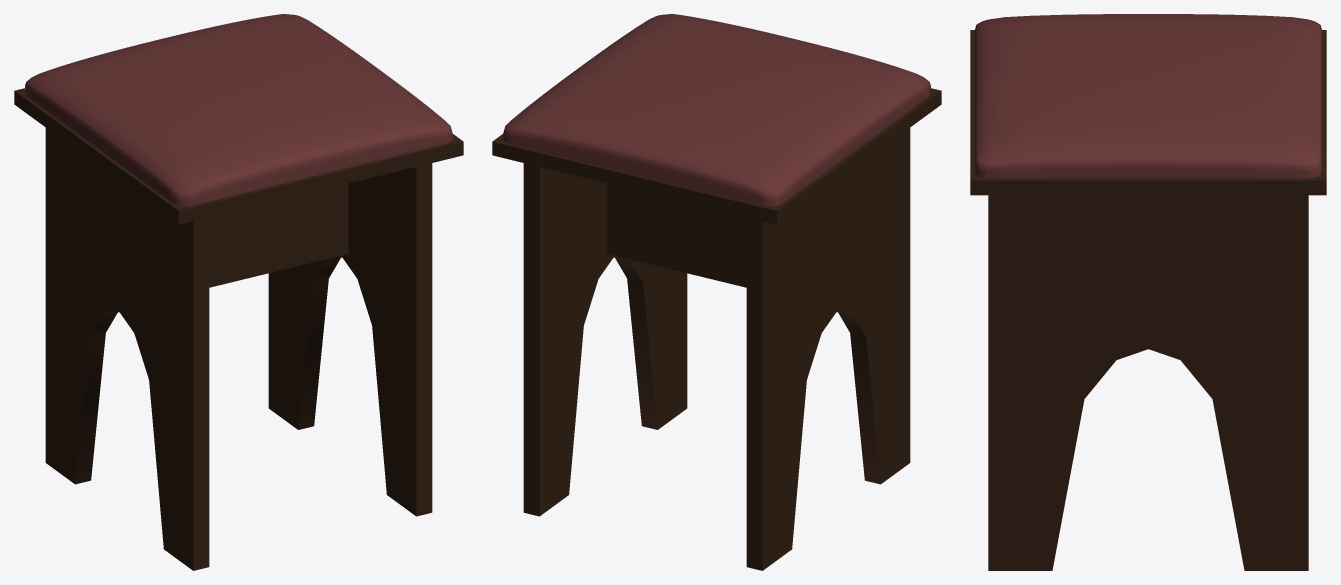
File: stull2.fbx
3 renders of one model, left to right at view 1: azimuth 30°, elevation 25°; view 2: azimuth 150°, elevation 25°; view 3: azimuth 270°, elevation 25°, orthographic. The views are drawn at different scales.
Parts seen in each view (by area): view 1: Cube.001; view 2: Cube.001; view 3: Cube.001.
Part boxes in pixels (x1,y1,x2,y2): Cube.001: [14, 14, 463, 570]; Cube.001: [492, 14, 941, 570]; Cube.001: [970, 14, 1326, 570].
Bounding box in the file's own units: 113 × 153 × 113.
